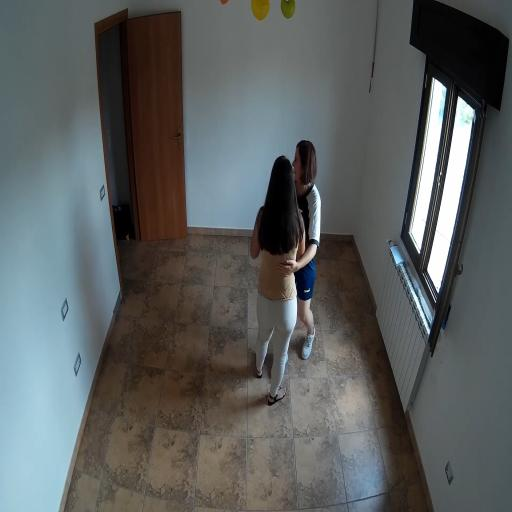nao-violencia: (246, 122, 329, 410)
